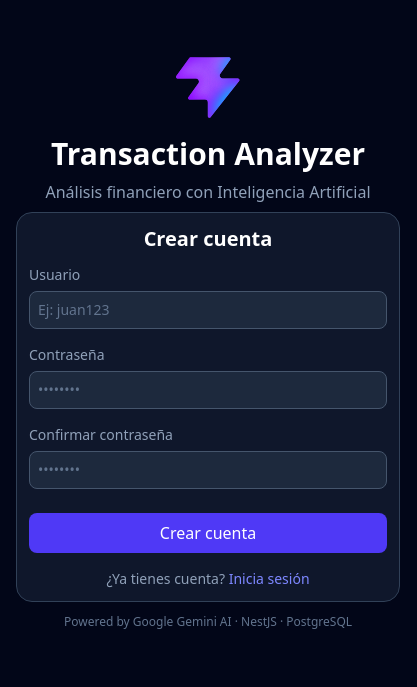
Test: RegisterPage - validación de formulario › shows error when username has invalid characters
Type "juan**" into the field with placeholder "Ej: juan123" at point(208, 310), box [29, 291, 387, 329]
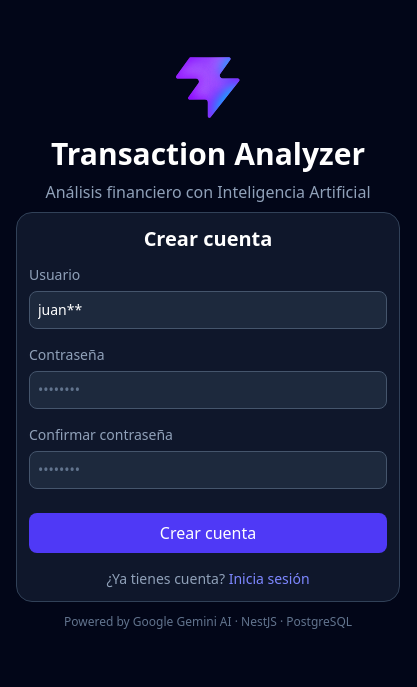
Type "password123" into the 1st password field with placeholder "••••••••" at point(208, 390), box [29, 371, 387, 409]
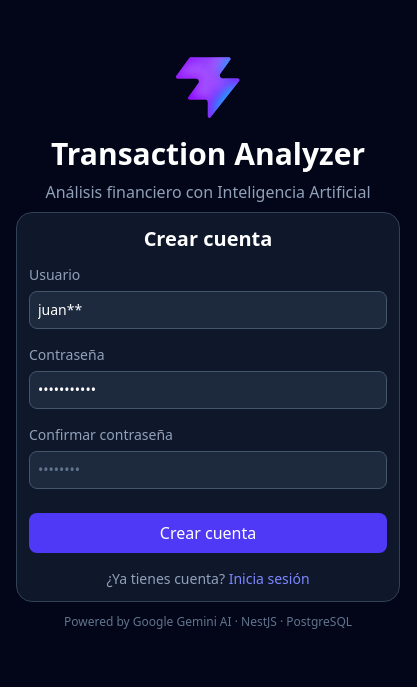
Type "password123" into the password field with placeholder "••••••••" at point(208, 470), box [29, 451, 387, 489]
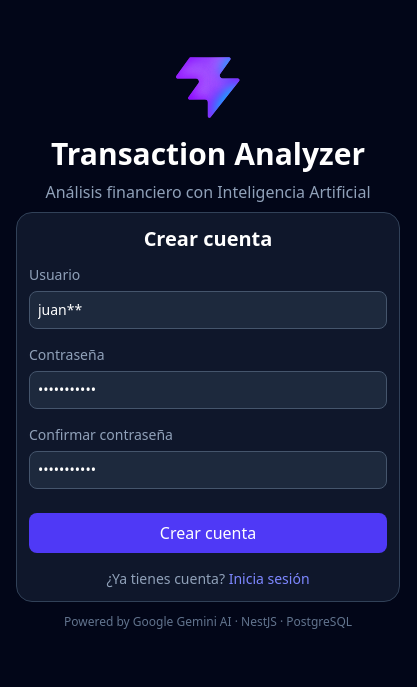
Click the button "Crear cuenta" at point(208, 533), box [29, 513, 387, 553]
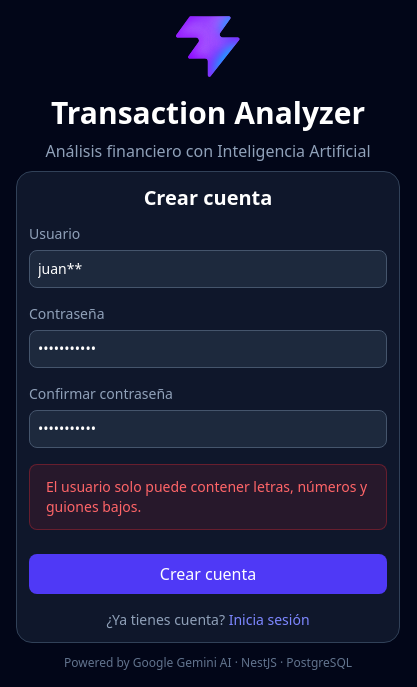
Expected: the text "solo puede contener letras" is shown, [46, 477, 367, 516]
